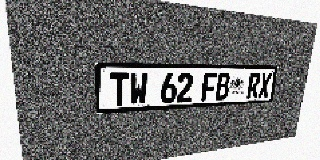2: (176, 73, 193, 103)
6: (160, 73, 178, 104)
B: (215, 73, 231, 100)
F: (201, 73, 217, 101)
R: (247, 73, 261, 99)
T: (110, 73, 129, 107)
W: (129, 73, 148, 105)
X: (258, 73, 272, 98)
